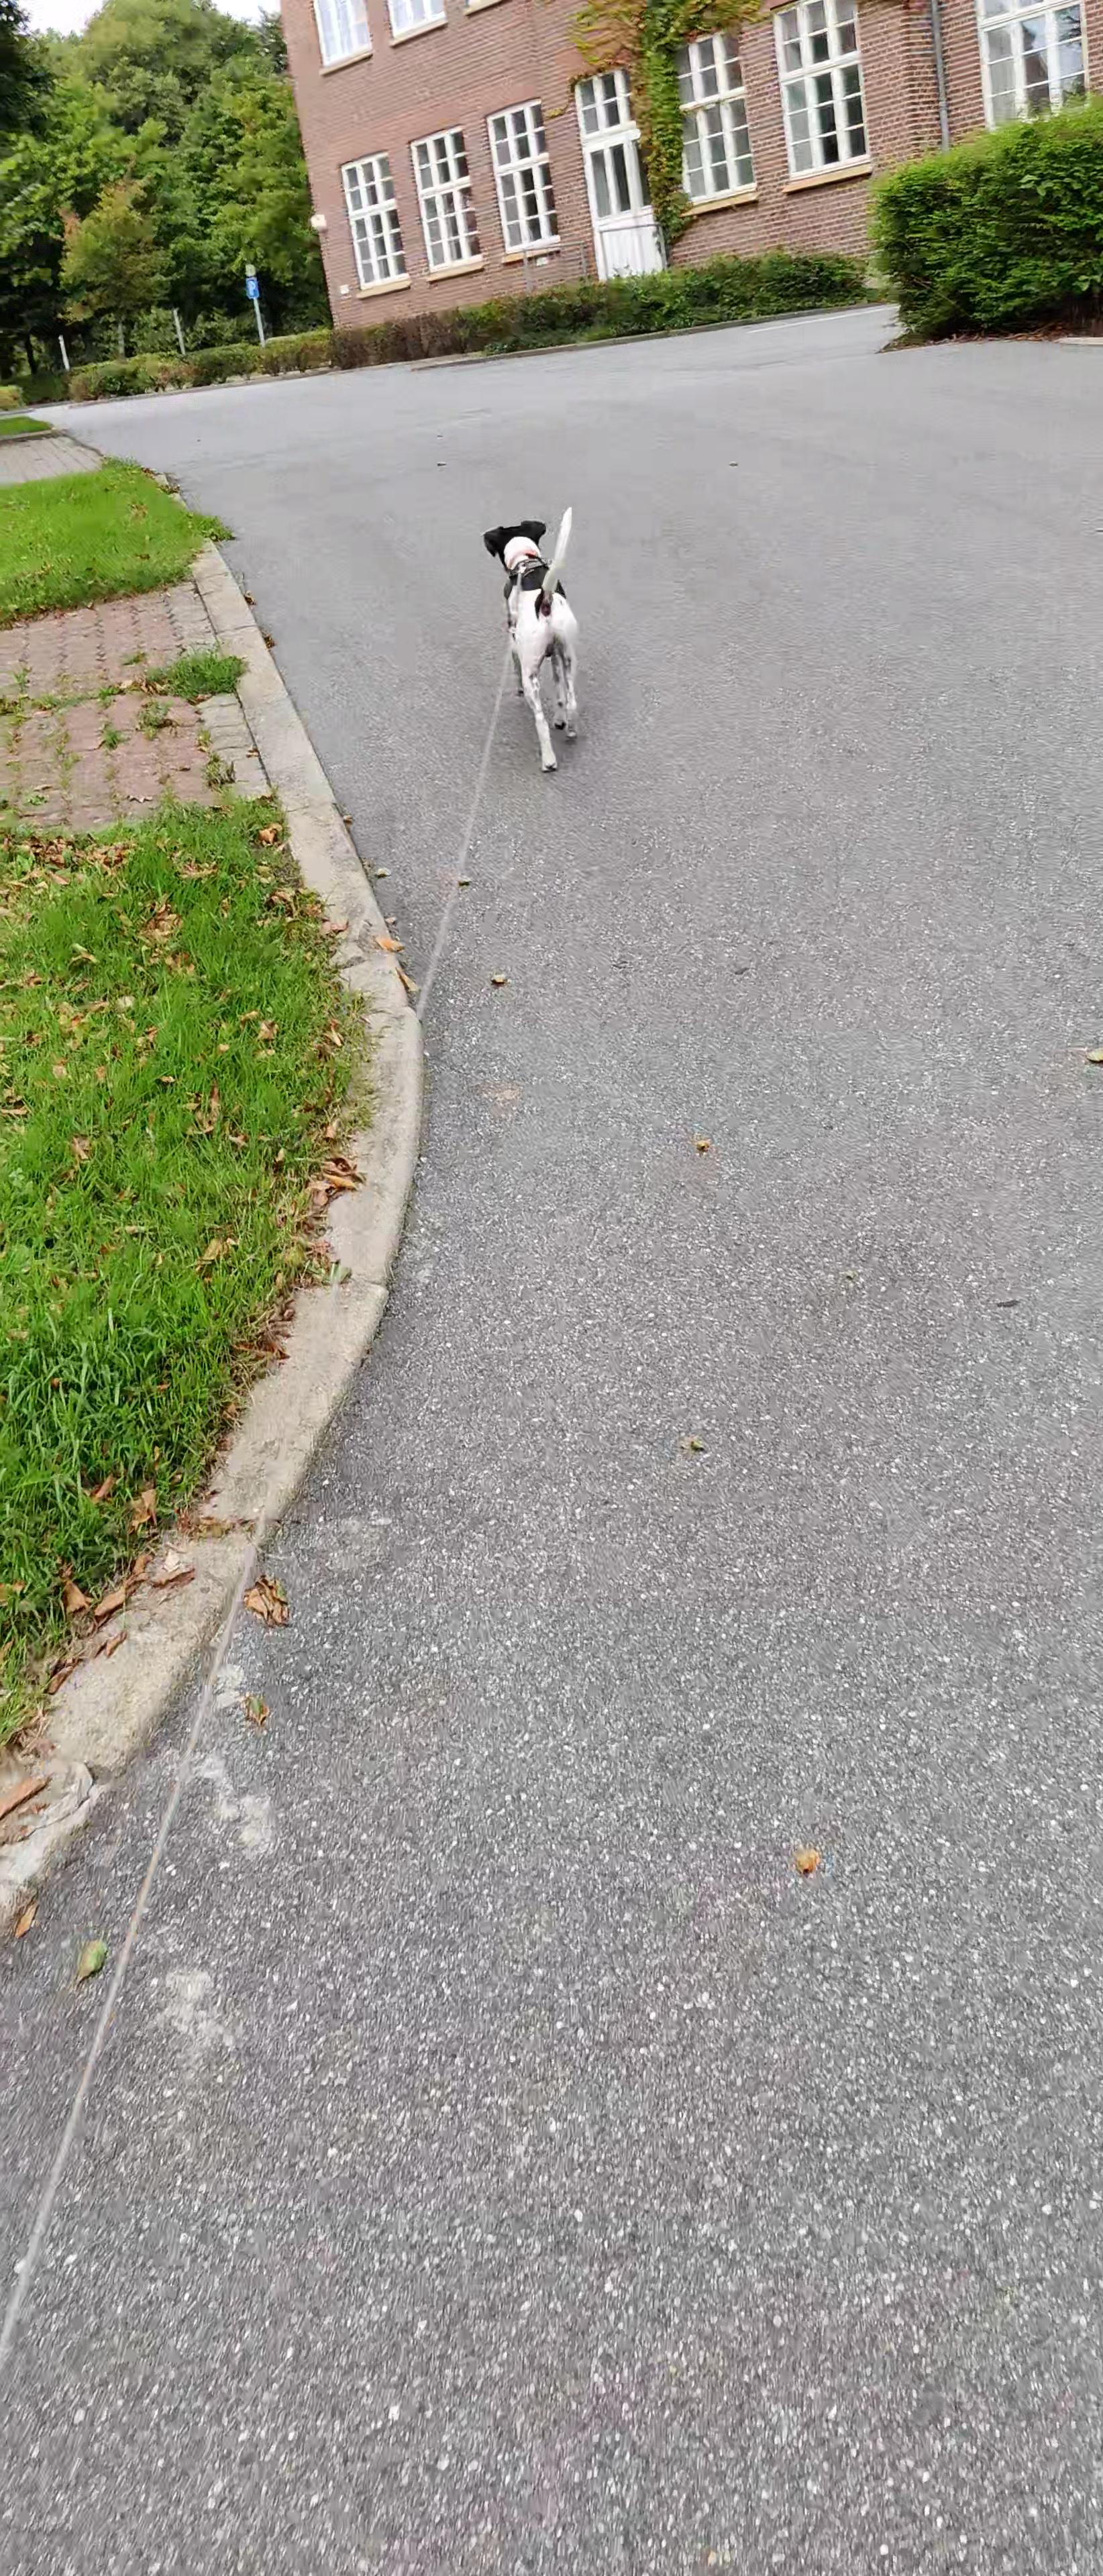Dog: (464, 496, 603, 784)
